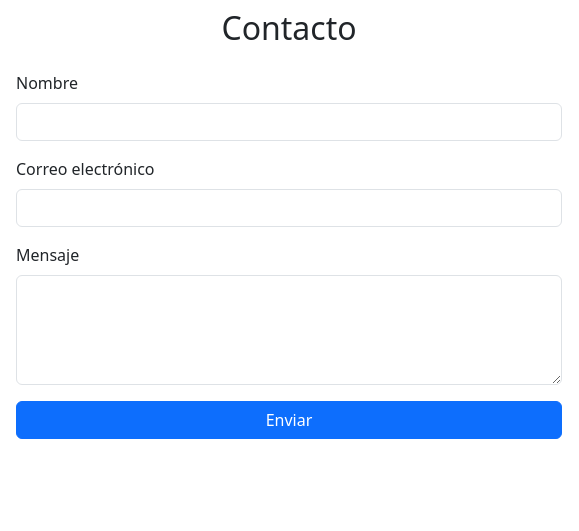
ContactForm › marca los campos en rojo y muestra errores si se envía vacío
Step 1. Click the button "Enviar" → (289, 420), box [16, 401, 562, 439]
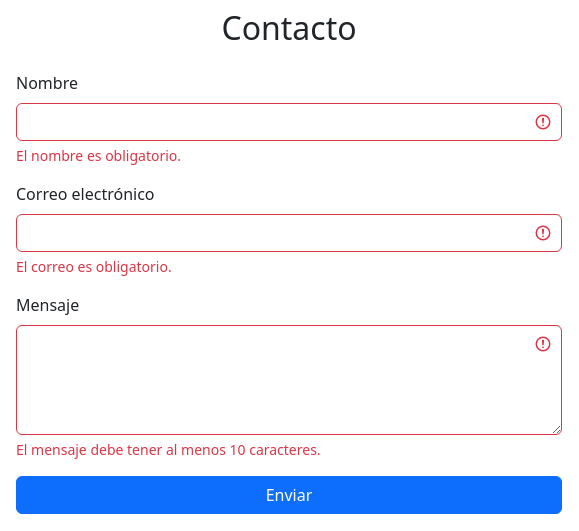
Result: the text "El nombre es obligatorio." is shown at [16, 146, 181, 165]
Result: the text "El correo es obligatorio." is shown at [16, 257, 172, 276]
Result: the text "El mensaje debe tener al menos 10 caracteres." is shown at [16, 440, 321, 459]
